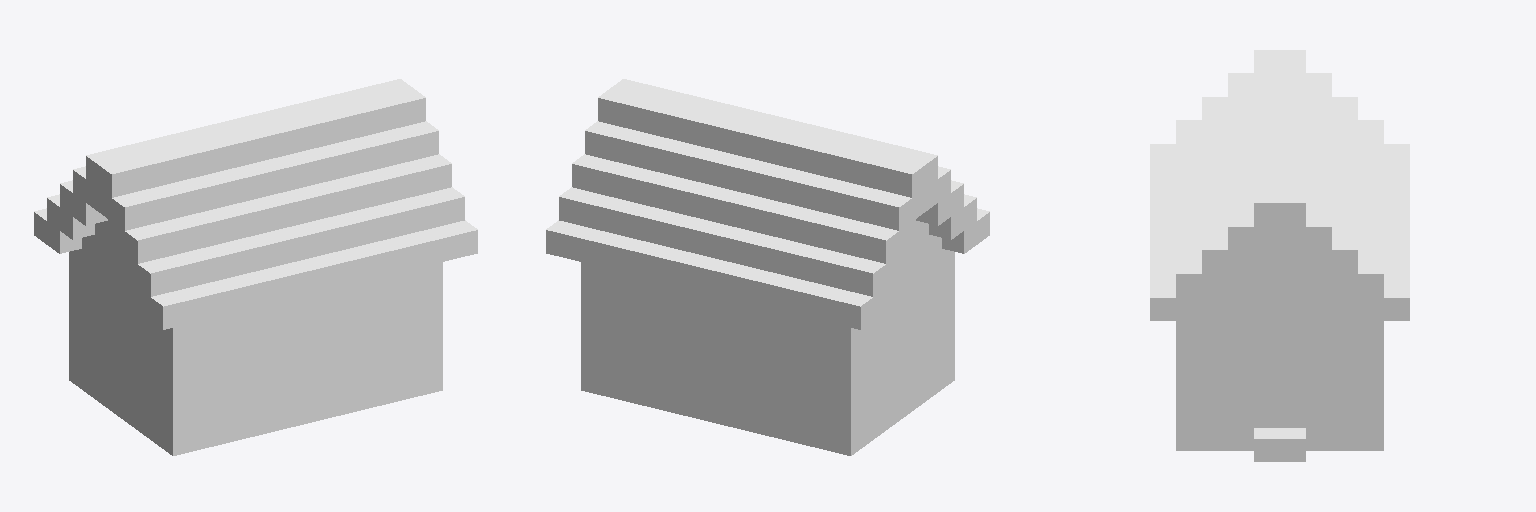
The model's file is Islands-51.obj.
3 views of the same model, side by side, from view 1: azimuth 30°, elevation 25°; view 2: azimuth 150°, elevation 25°; view 3: azimuth 270°, elevation 25° (orthographic).
Visible parts, largest first — view 1: object 1; view 2: object 1; view 3: object 1.
Boxes of the visible parts, x1=… form: object 1: x1=34, y1=79, x2=477, y2=455; object 1: x1=546, y1=79, x2=989, y2=455; object 1: x1=1150, y1=50, x2=1409, y2=461.
Bounding box in the file's own units: 1.4 × 1.1 × 1.